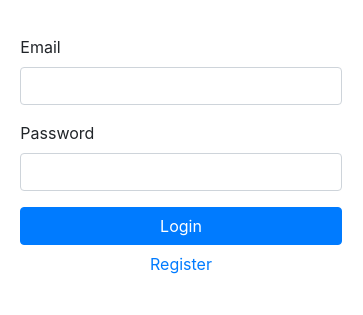
Test: Login Component › When submitting the empty form, it should show required field errors
What coordinates should you click on to do the following:
click the button with test id "login-button"
I would click on:
 (181, 226)
Its box is [20,207,342,245].
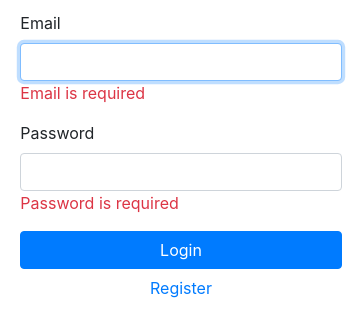
Check: the text "Email is required" is shown, box [20,83,145,103]
Check: the text "Password is required" is shown, box [20,193,179,213]
